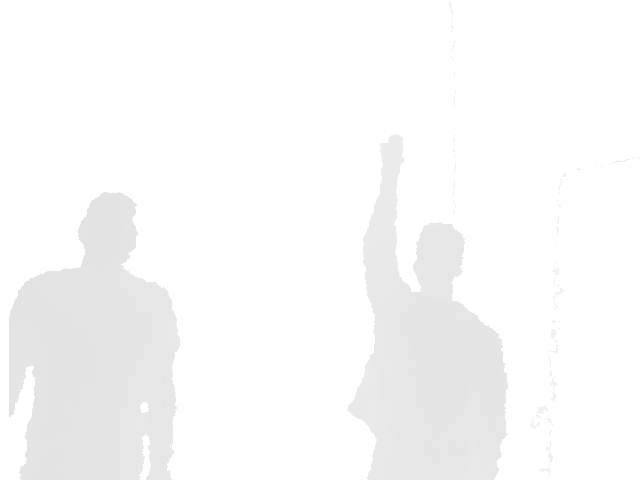hand: (378, 134, 405, 181)
head: (77, 191, 138, 269), (412, 222, 465, 299)
person: (346, 134, 510, 480), (8, 191, 182, 479)
